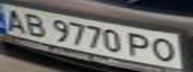0: (103, 26, 127, 54)
7: (84, 22, 106, 51), (66, 20, 87, 46)
9: (45, 16, 72, 43)
A: (0, 6, 30, 34)
B: (21, 10, 48, 38)
O: (148, 35, 184, 64)
P: (124, 30, 157, 59)
